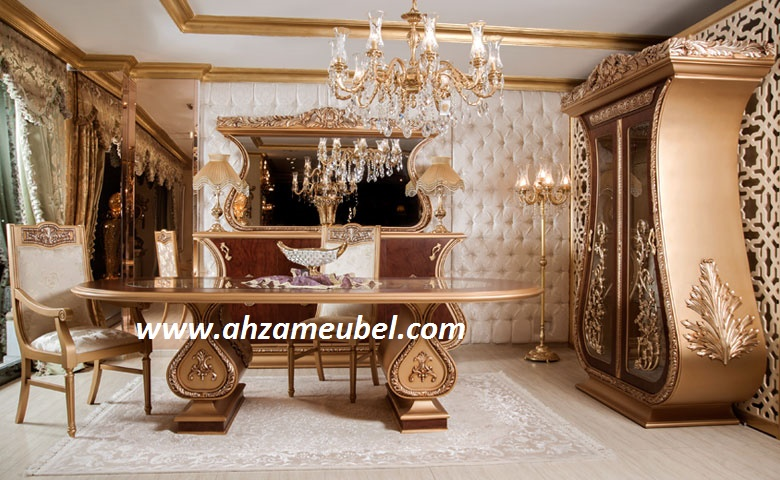Carving Chair: (3, 210, 168, 435)
Carving Table: (84, 271, 534, 443)
